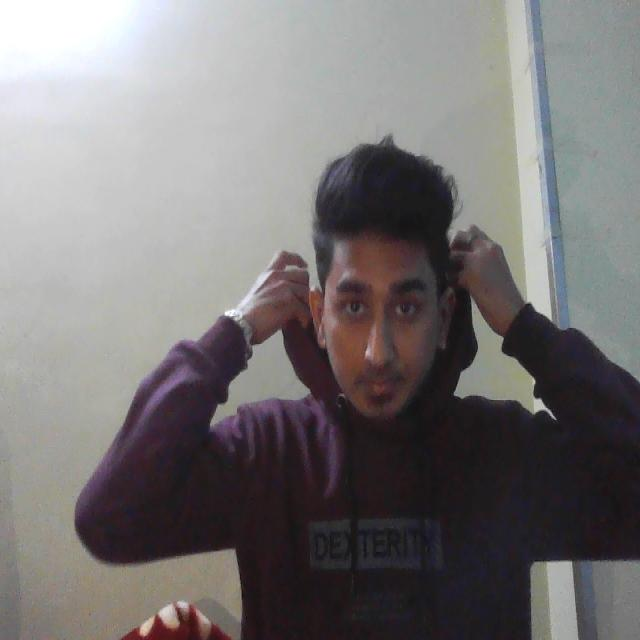real: (306, 143, 464, 441)
